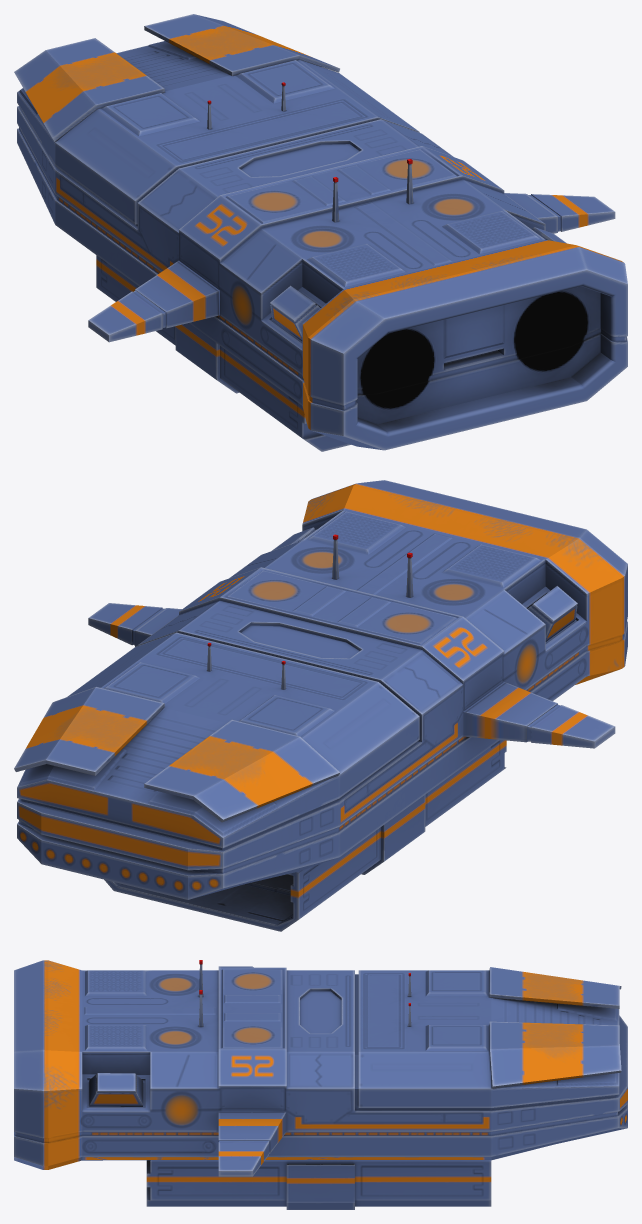
Rendered from npcShip10.glb.
The picture shows the model from 3 angles, top to bottom: view 1: azimuth 30°, elevation 25°; view 2: azimuth 150°, elevation 25°; view 3: azimuth 270°, elevation 25°; orthographic projection. The views are drawn at different scales.
Visible parts, largest first — view 1: Object_2; view 2: Object_2; view 3: Object_2.
Boxes of the visible parts, x1,y1,x2,y2 form: Object_2: (14, 14, 627, 451); Object_2: (14, 480, 627, 931); Object_2: (14, 960, 627, 1209).
Size of the model in its own units: 72.72 by 33.22 by 92.32.
Materials: 1 (1 with a texture image).
